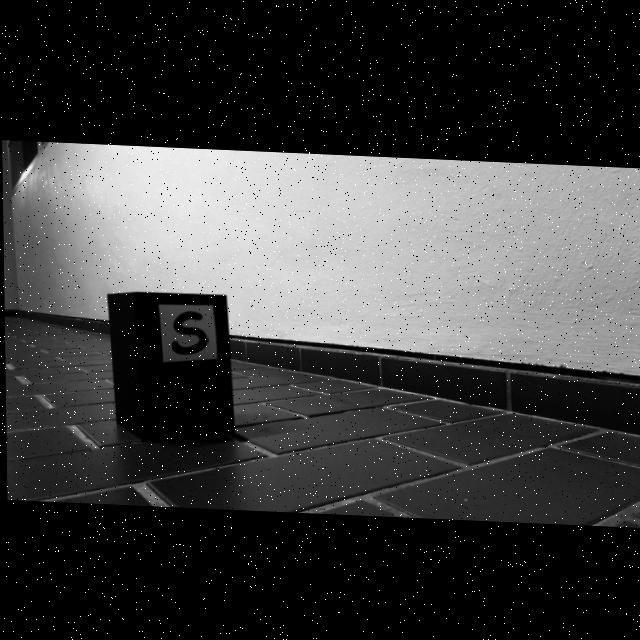S: (172, 309, 207, 353)
